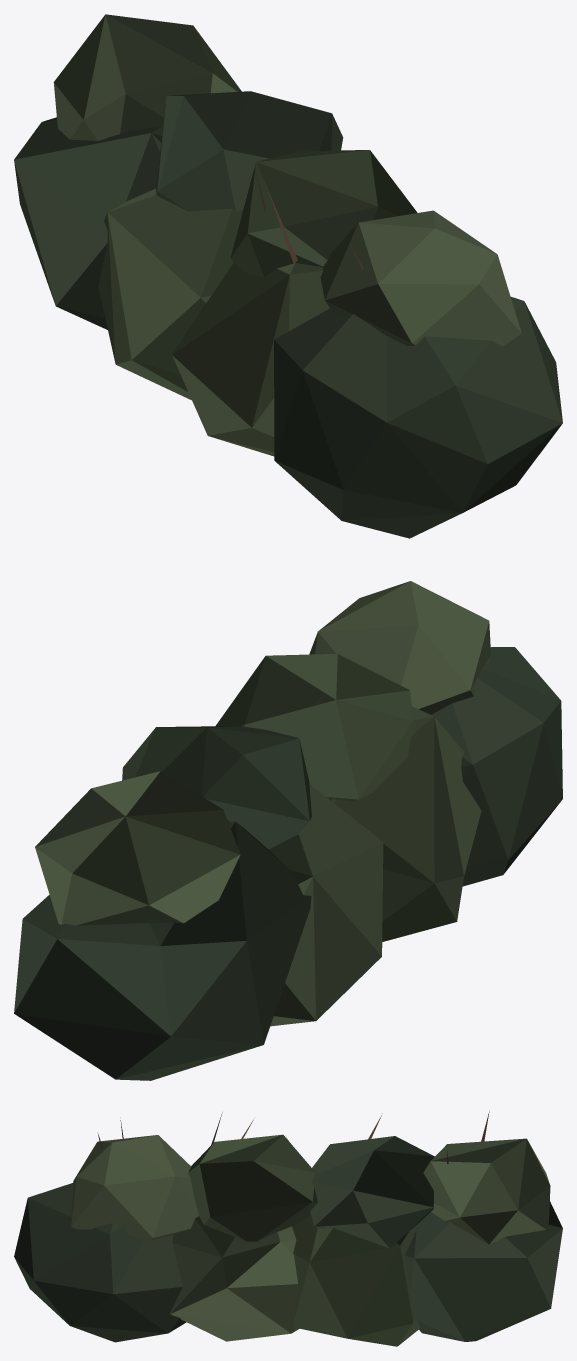
The model's file is bree_hedge_lod1.glb.
3 views of the same model, one above another, from view 1: azimuth 30°, elevation 25°; view 2: azimuth 150°, elevation 25°; view 3: azimuth 270°, elevation 25° (orthographic). The views are drawn at different scales.
Visible parts, largest first — view 1: bree_hedge_lod1; view 2: bree_hedge_lod1; view 3: bree_hedge_lod1.
Part boxes in pixels (x1,y1,x2,y2): bree_hedge_lod1: [14, 14, 562, 538]; bree_hedge_lod1: [14, 581, 562, 1080]; bree_hedge_lod1: [14, 1110, 562, 1346].
Size of the model in its own units: 1.76 by 2 by 4.65.
